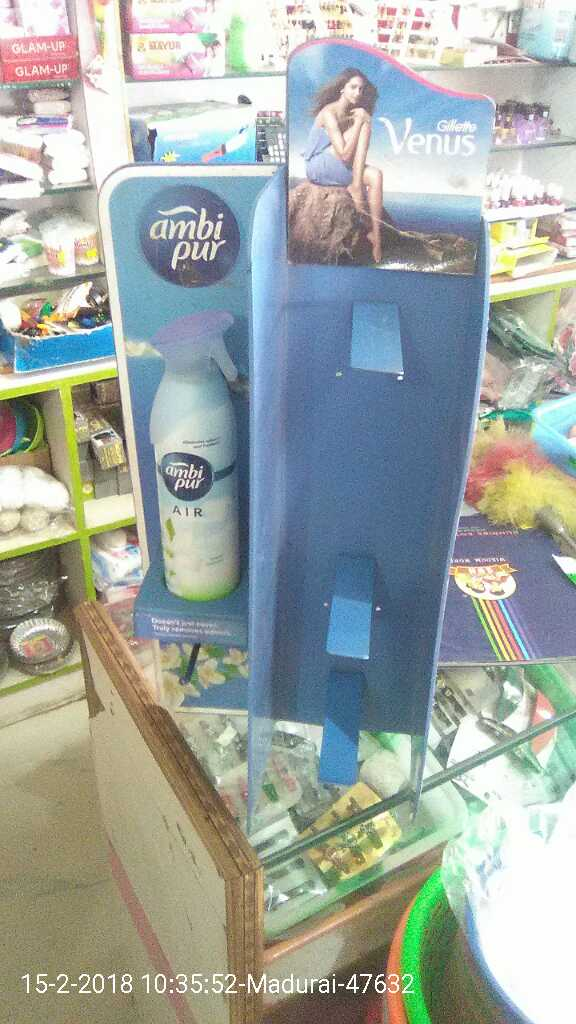ambipur: (145, 296, 256, 608)
